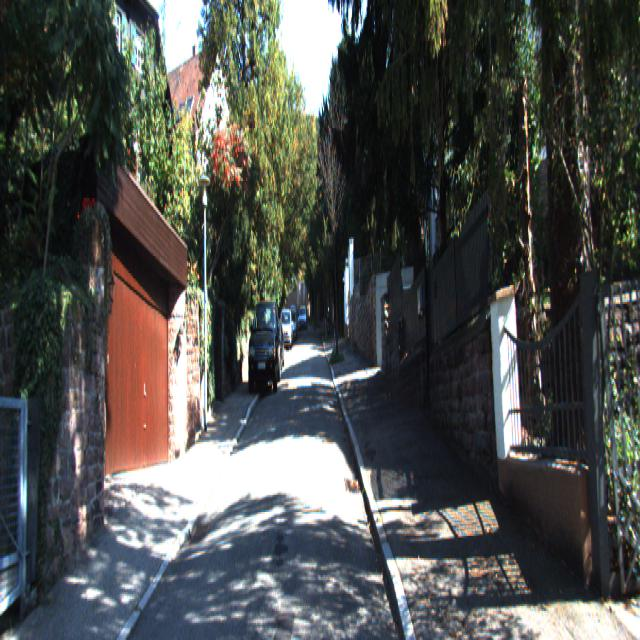Car: (247, 295, 281, 398), (280, 307, 294, 352)
